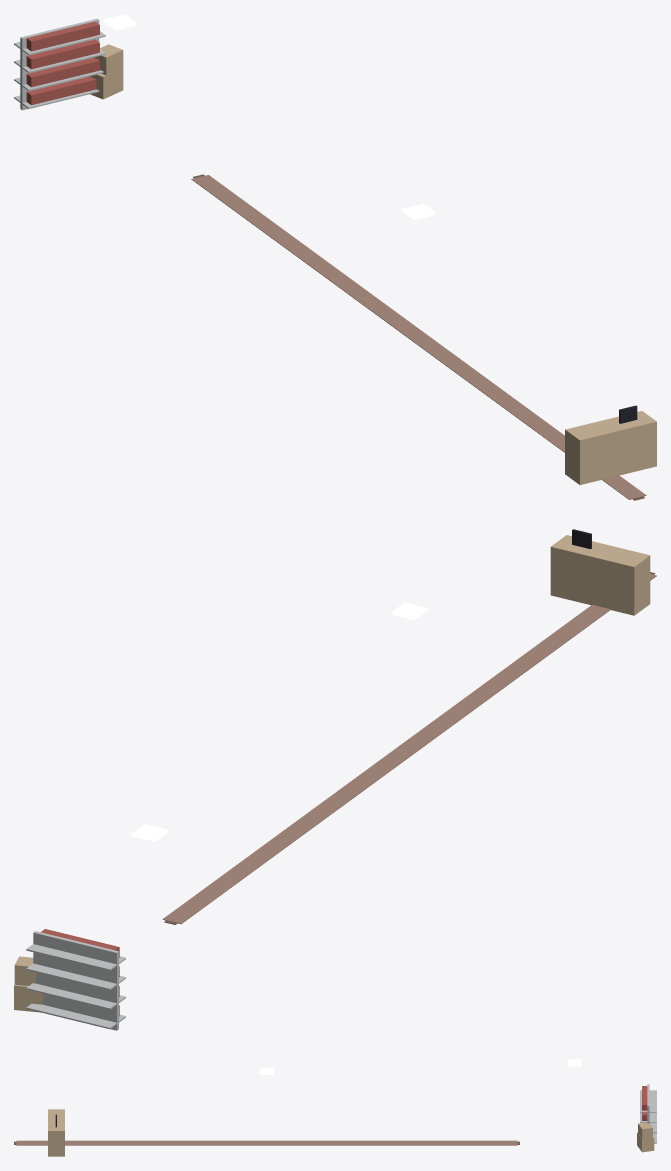
Rendered from fine-s0.glb.
3 renders of one model, top to bottom at view 1: azimuth 30°, elevation 25°; view 2: azimuth 150°, elevation 25°; view 3: azimuth 270°, elevation 25°, orthographic. The views are drawn at different scales.
Visible parts, largest first — view 1: soft-s0, shelving.000, shop-counter.000, cardboard-box.000; view 2: soft-s0, shelving.000, shop-counter.000, cardboard-box.000; view 3: soft-s0, shop-counter.000, shelving.000, cardboard-box.000.
Boxes of the visible parts, x1,y1,x2,y2 form: soft-s0: [191, 174, 646, 500]; shelving.000: [14, 18, 105, 110]; shop-counter.000: [565, 405, 656, 484]; cardboard-box.000: [89, 44, 123, 99]; soft-s0: [162, 572, 656, 924]; shelving.000: [26, 929, 125, 1030]; shop-counter.000: [550, 529, 650, 615]; cardboard-box.000: [14, 956, 42, 1012]; soft-s0: [14, 1140, 519, 1145]; shop-counter.000: [48, 1109, 64, 1156]; shelving.000: [640, 1084, 656, 1143]; cardboard-box.000: [637, 1123, 654, 1152].
Size of the model in its own units: 2.6 by 2.83 by 22.72.
